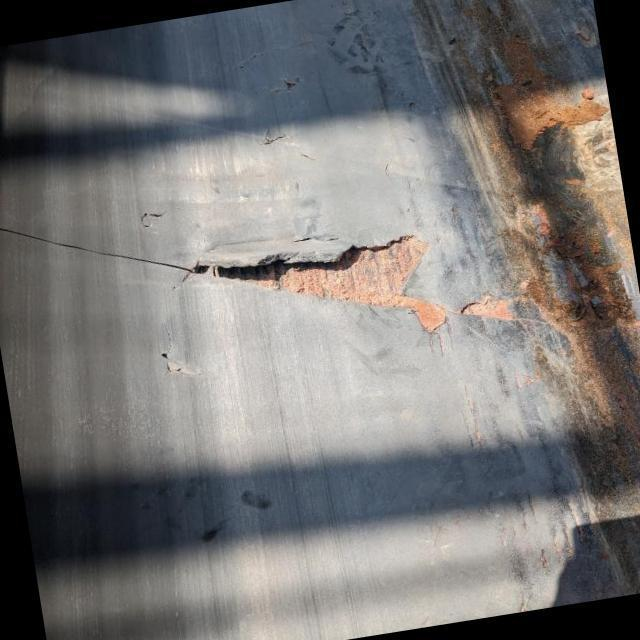Tear: (0, 230, 552, 332), (144, 318, 202, 384), (234, 39, 288, 76), (268, 68, 308, 98), (130, 205, 170, 235), (254, 120, 288, 149)
